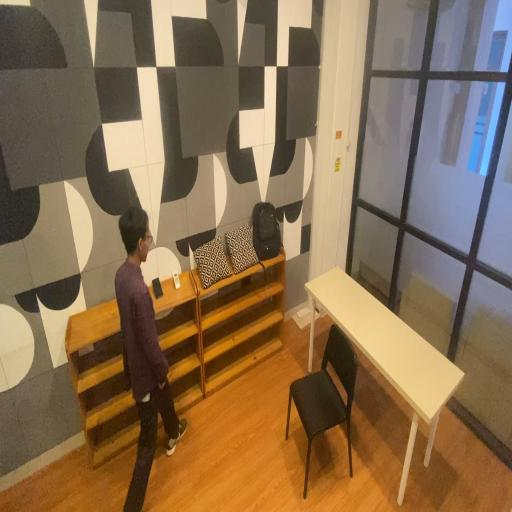bantal: (191, 228, 234, 293), (223, 217, 262, 281)
hp: (150, 271, 168, 305)
kursi: (287, 320, 361, 501)
lemari: (58, 264, 208, 474), (185, 234, 287, 408)
meja: (302, 252, 469, 512)
remote AC: (171, 266, 183, 294)
tas ransel: (249, 197, 285, 264)
